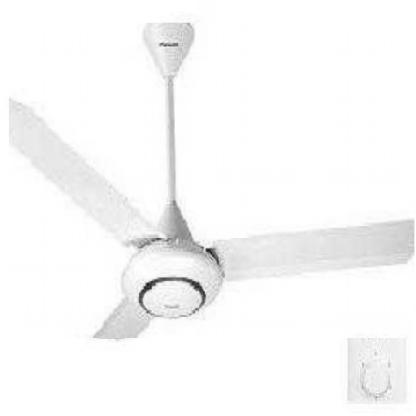ceiling-fan: (9, 23, 415, 339)
